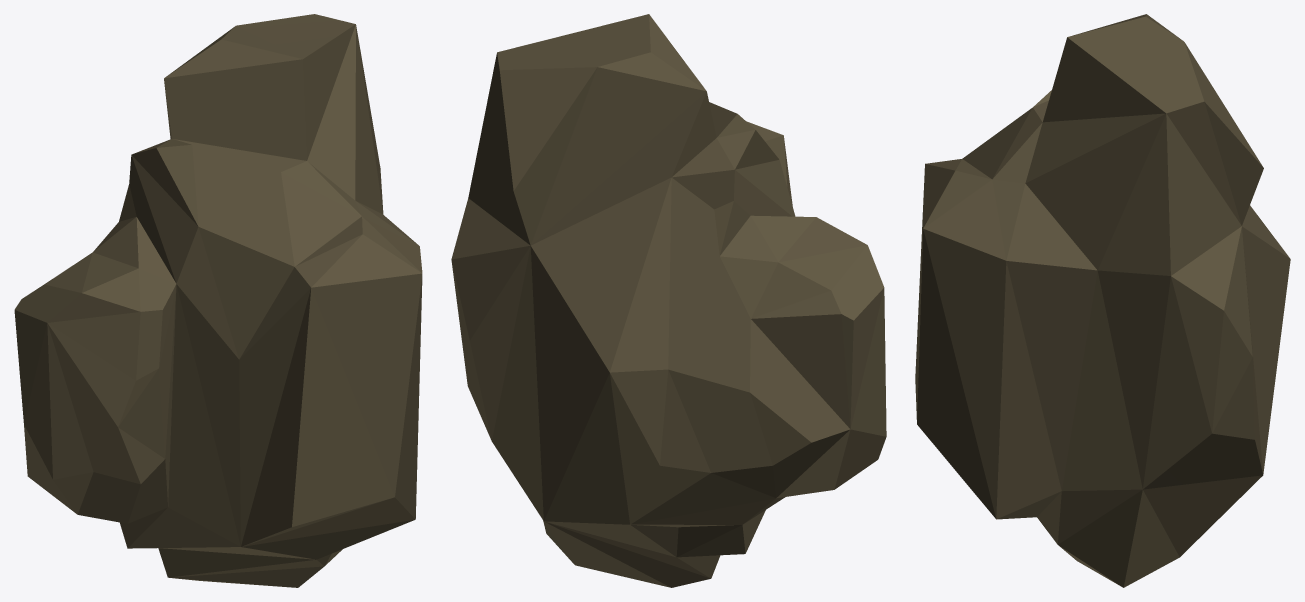
File: rock__rock4_cave_medium.glb
3 renders of one model, left to right at view 1: azimuth 30°, elevation 25°; view 2: azimuth 150°, elevation 25°; view 3: azimuth 270°, elevation 25°, orthographic.
Visible parts, largest first — view 1: rock4.cave.medium; view 2: rock4.cave.medium; view 3: rock4.cave.medium.
Boxes of the visible parts, x1,y1,x2,y2 form: rock4.cave.medium: (14, 14, 422, 587); rock4.cave.medium: (451, 14, 886, 587); rock4.cave.medium: (915, 14, 1290, 587).
Size of the model in its own units: 3.13 by 4.25 by 2.74.
Materials: 1 (1 with a texture image).
